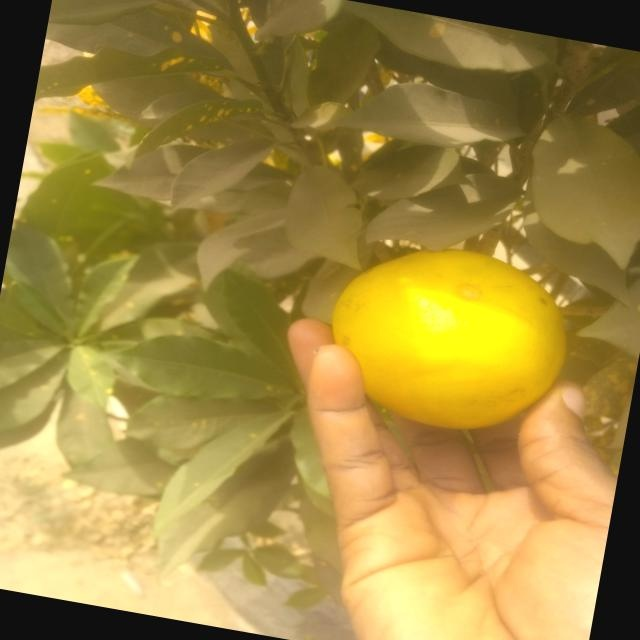agrume: (306, 227, 577, 451)
